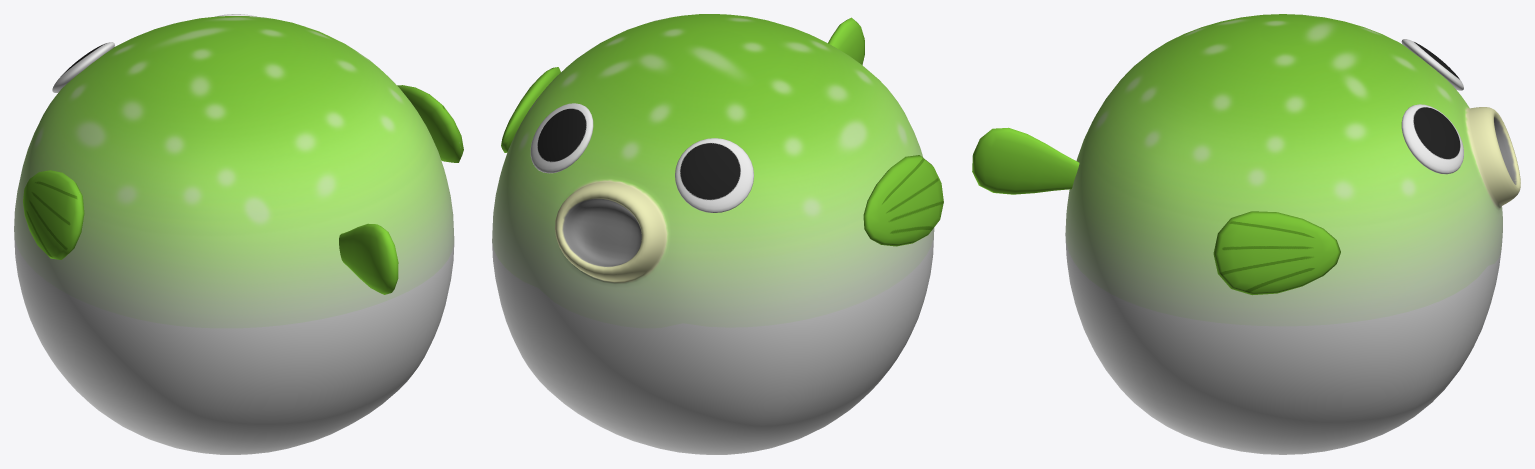
File: fugu.fbx
The picture shows the model from 3 angles, left to right: view 1: azimuth 30°, elevation 25°; view 2: azimuth 150°, elevation 25°; view 3: azimuth 270°, elevation 25°; orthographic projection.
Visible parts, largest first — view 1: Cube, 立方体, 立方体.001, 球; view 2: Cube, 球, 立方体, 立方体.001; view 3: Cube, 立方体, 立方体.001, 球.
Boxes of the visible parts, x1,y1,x2,y2 form: Cube: (14,16,454,454); 立方体: (23,85,463,259); 立方体.001: (339,223,398,294); 球: (52,14,257,92); Cube: (492,14,934,454); 球: (530,103,753,212); 立方体: (501,67,943,246); 立方体.001: (828,17,864,64); Cube: (1065,14,1520,454); 立方体: (1213,211,1340,295); 立方体.001: (972,127,1079,194); 球: (1401,39,1463,174).
Bounding box in the file's own units: 173 × 160 × 202.
